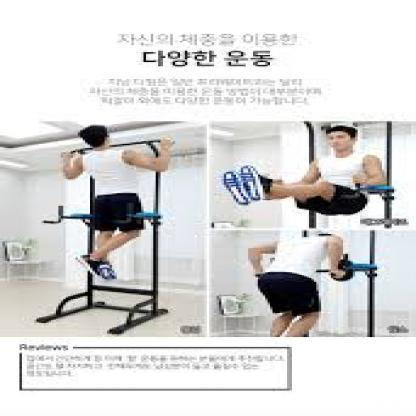chinning dipping: (40, 139, 172, 336)
